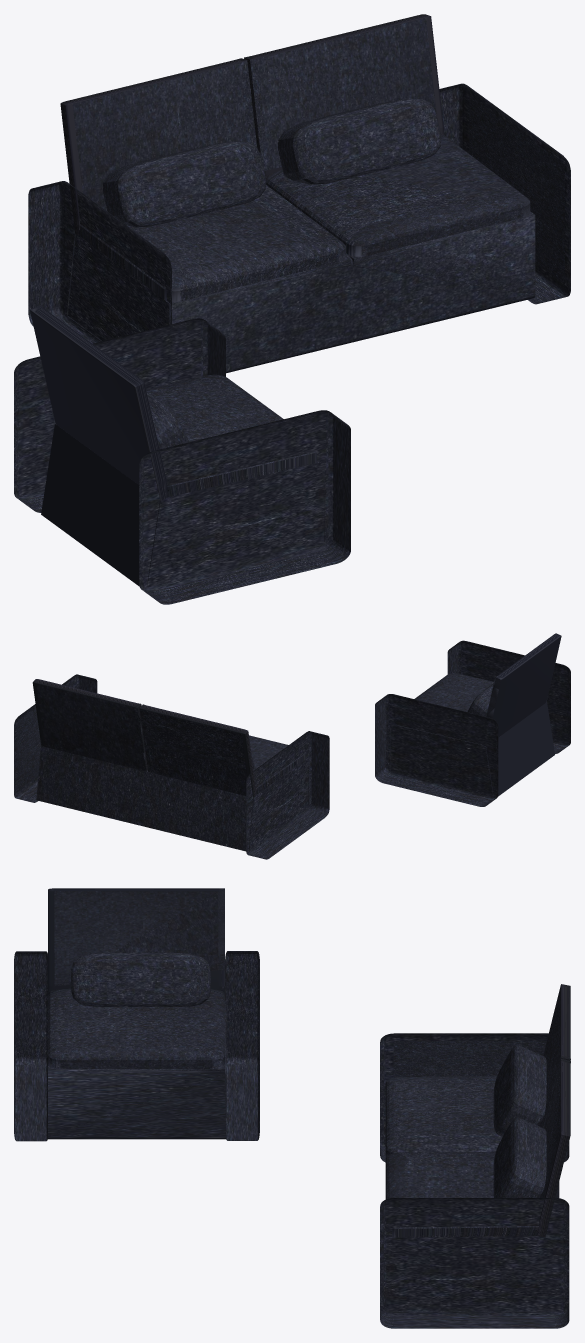
The model's file is sofa.fbx.
3 views of the same model, one above another, from view 1: azimuth 30°, elevation 25°; view 2: azimuth 150°, elevation 25°; view 3: azimuth 270°, elevation 25° (orthographic). The views are drawn at different scales.
Parts seen in each view (by area): view 1: SofaGrande, SofaPequenio; view 2: SofaGrande, SofaPequenio; view 3: SofaPequenio, SofaGrande.
Boxes of the visible parts, x1,y1,x2,y2 form: SofaGrande: (28, 14, 570, 373); SofaPequenio: (14, 305, 350, 604); SofaGrande: (14, 674, 329, 859); SofaPequenio: (375, 633, 570, 806); SofaPequenio: (14, 888, 259, 1141); SofaGrande: (380, 984, 570, 1328).
Size of the model in its own units: 444 by 144 by 399.
2 materials, 2 textured.
